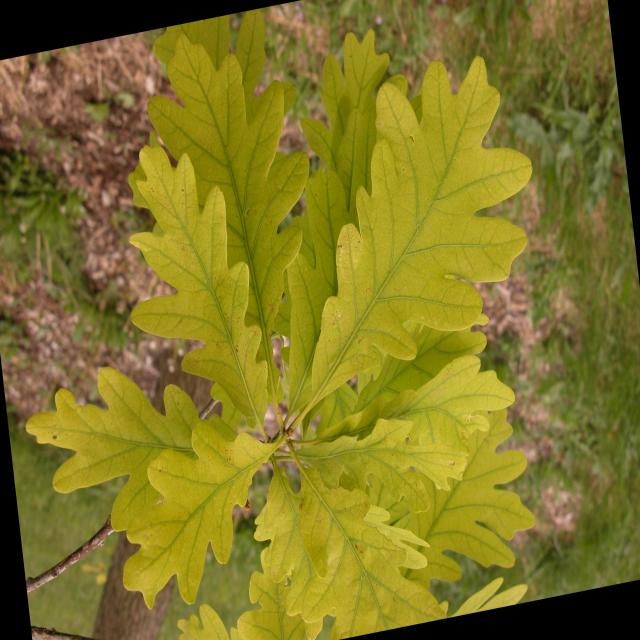Chlorosis: (84, 64, 532, 621)
